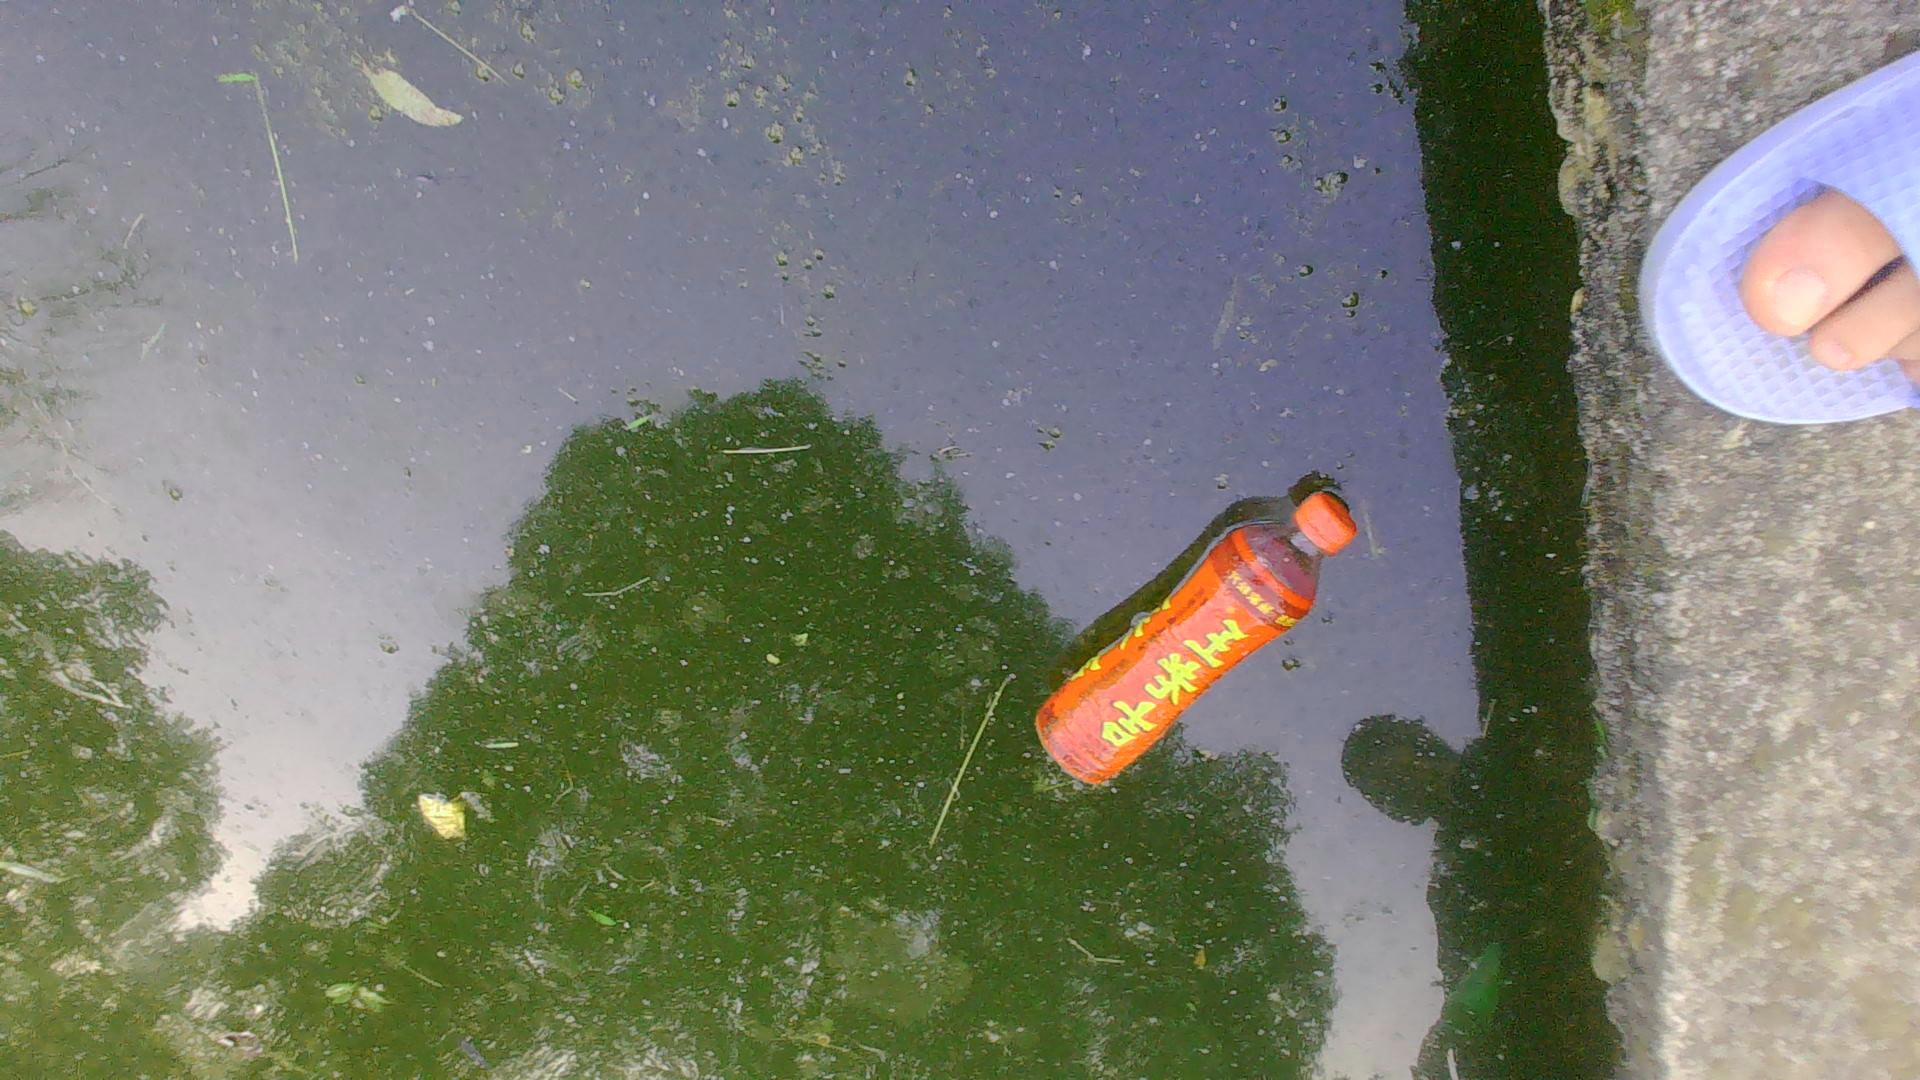Plastic: (1023, 485, 1364, 793)
